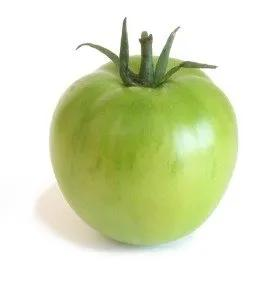Mengkal: (43, 24, 264, 257)
